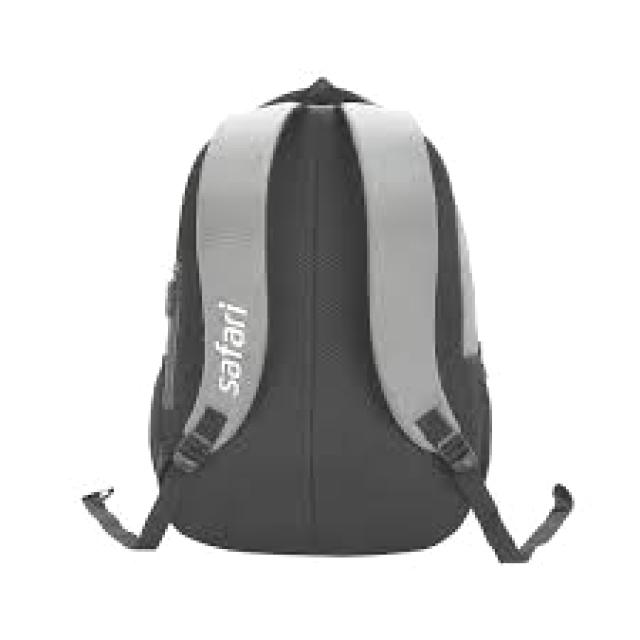backpack: (81, 75, 573, 564)
